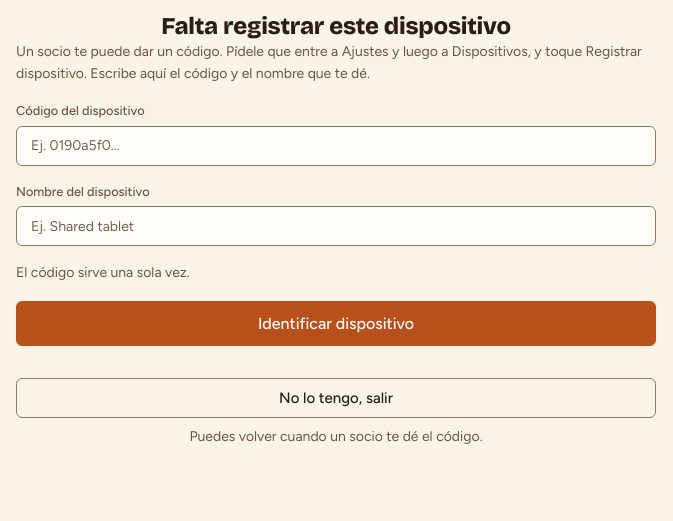
Test: SelectContextView › si el dispositivo no está autorizado (403), muestra un mensaje claro y no continúa
Type "unknown" into the field labelled "Código del dispositivo" at (336, 146), box [16, 126, 656, 166]
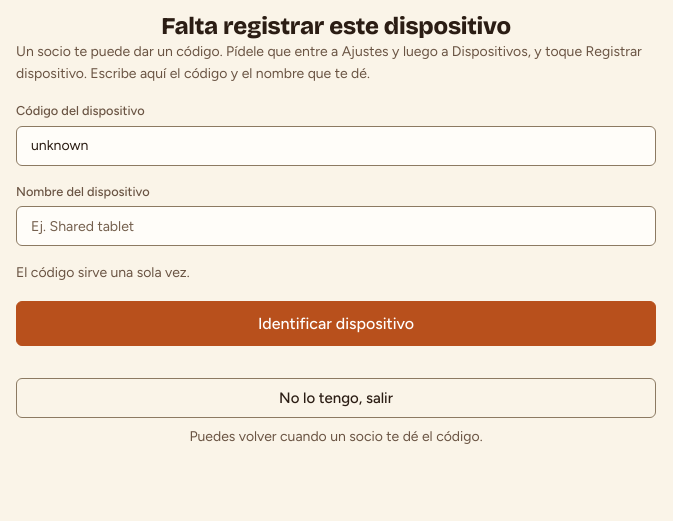
Type "Unknown" into the field labelled "Nombre del dispositivo" at (336, 226), box [16, 206, 656, 246]
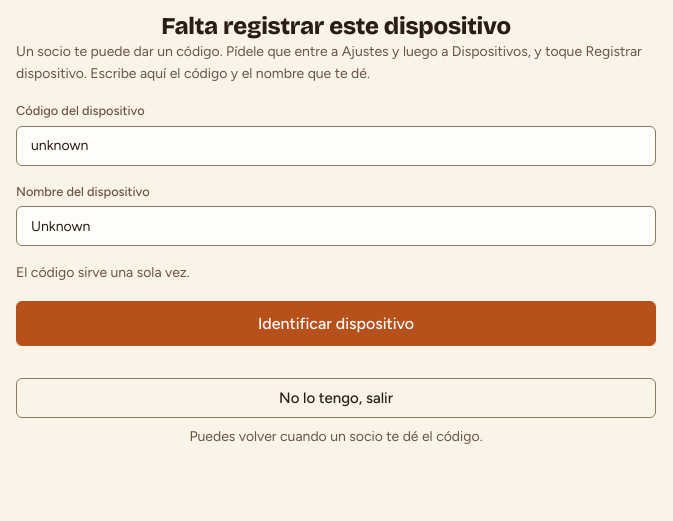
Submit the form, box [16, 41, 656, 346]
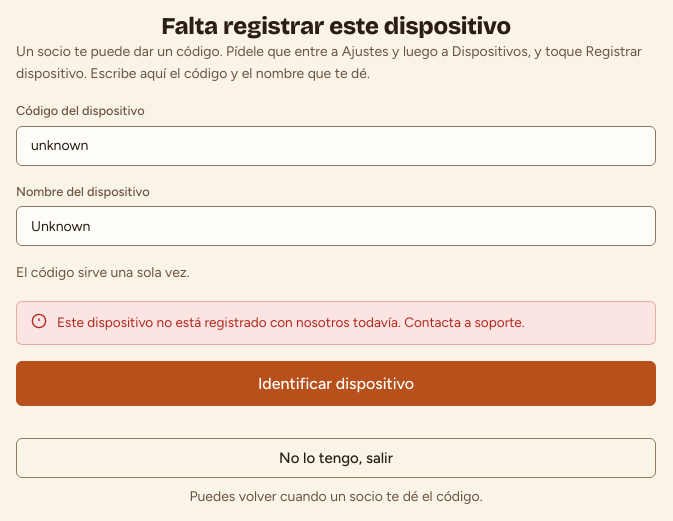
Now the text "Este dispositivo no está registrado con nosotros todavía. Contacta a soporte." is shown, box [57, 314, 525, 330]
